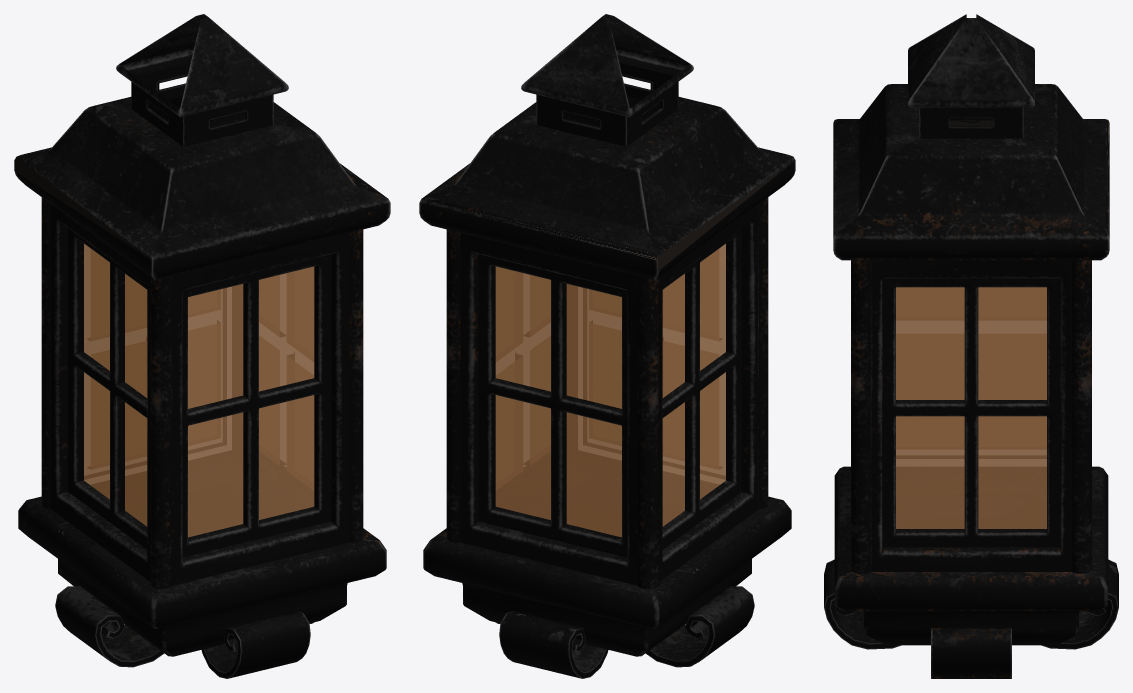
File: Lantern 1.glb
3 renders of one model, left to right at view 1: azimuth 30°, elevation 25°; view 2: azimuth 150°, elevation 25°; view 3: azimuth 270°, elevation 25°, orthographic.
Parts seen in each view (by area): view 1: lantern1; view 2: lantern1; view 3: lantern1.
Boxes of the visible parts, bbox=[...] form: lantern1: bbox=[14, 14, 390, 678]; lantern1: bbox=[419, 14, 795, 678]; lantern1: bbox=[824, 14, 1118, 678].
Size of the model in its own units: 87.18 by 201 by 87.18.
Materials: 2 (1 with a texture image).
